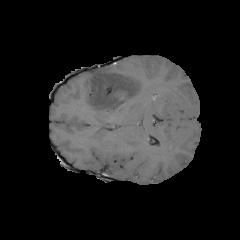glioma: (85, 67, 143, 126)
